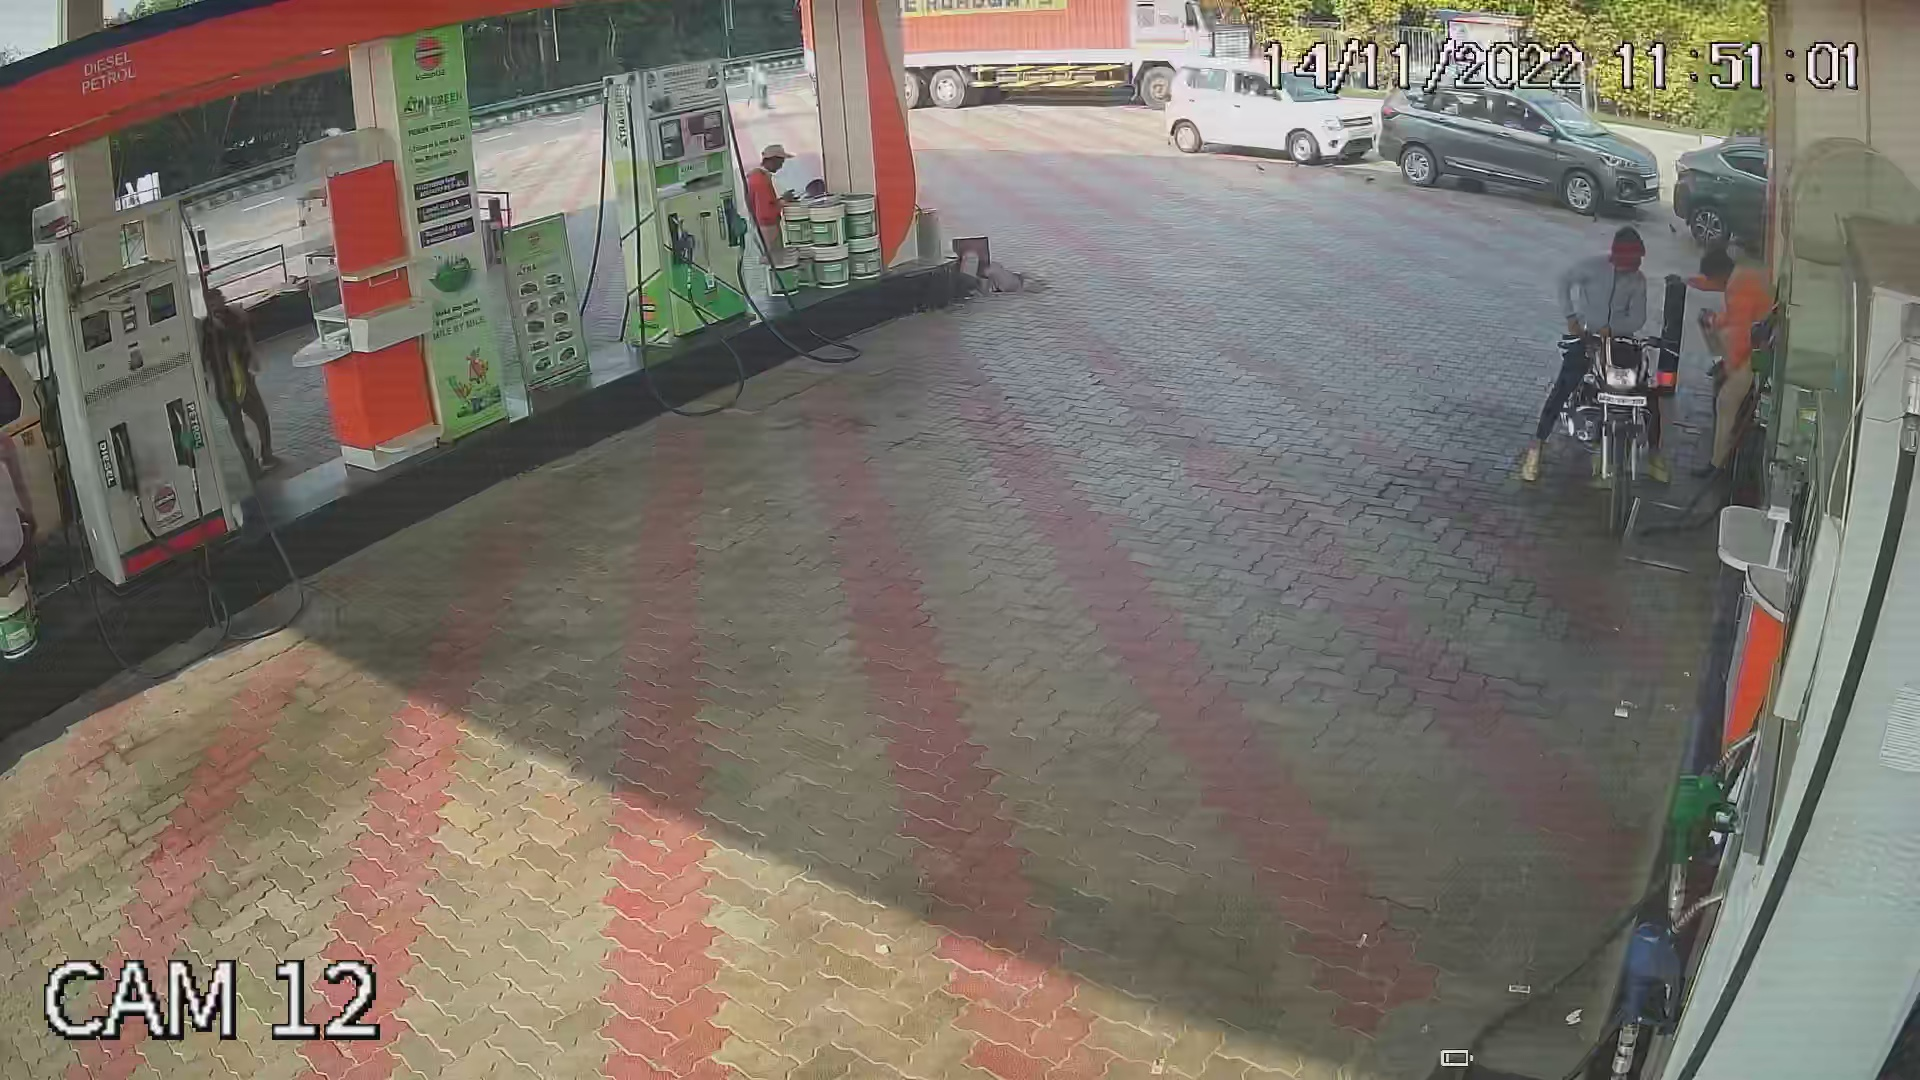Bike: (1520, 225, 1677, 558)
Car: (1371, 80, 1665, 224), (1159, 46, 1378, 171), (5, 334, 66, 558), (1665, 127, 1770, 255)
HMV: (836, 0, 1199, 112)
Others: (1691, 225, 1762, 502), (742, 127, 802, 284)
